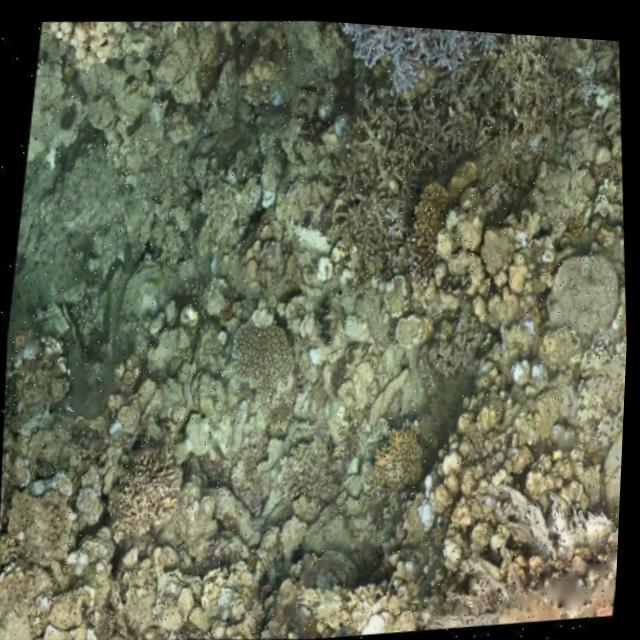Bleached Coral: (310, 16, 516, 98)
